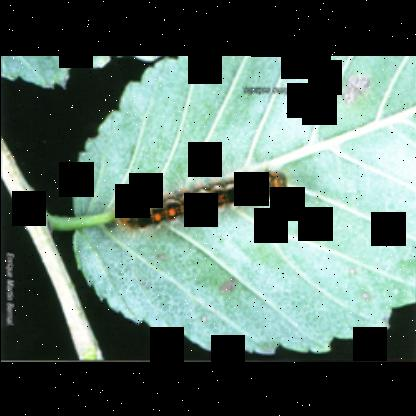oruga: (107, 168, 295, 236)
